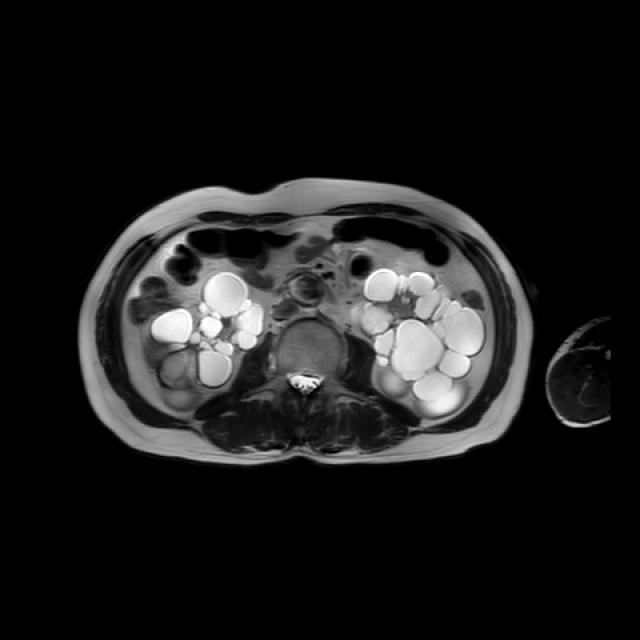sag: (147, 270, 265, 406)
sol: (354, 269, 485, 418)
